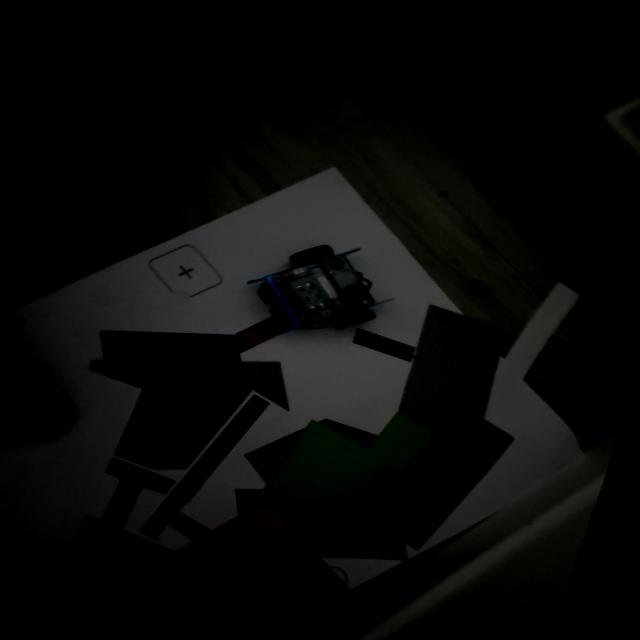mbot-detection: (228, 210, 413, 364)
